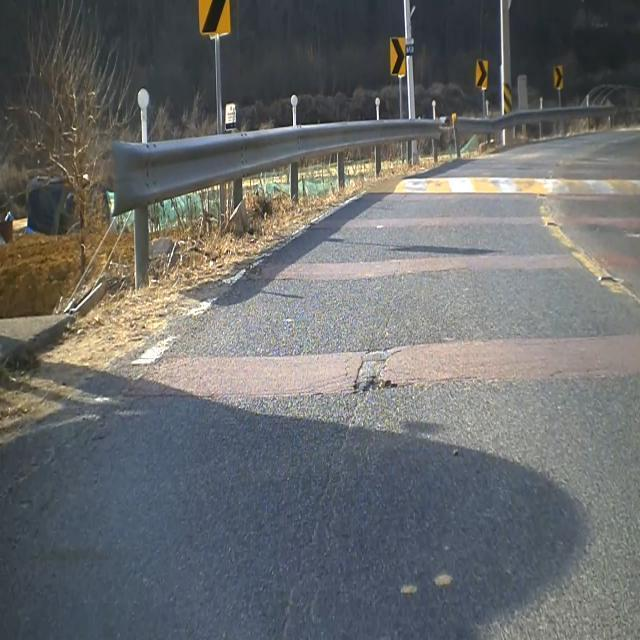pothole: (343, 335, 404, 408)
